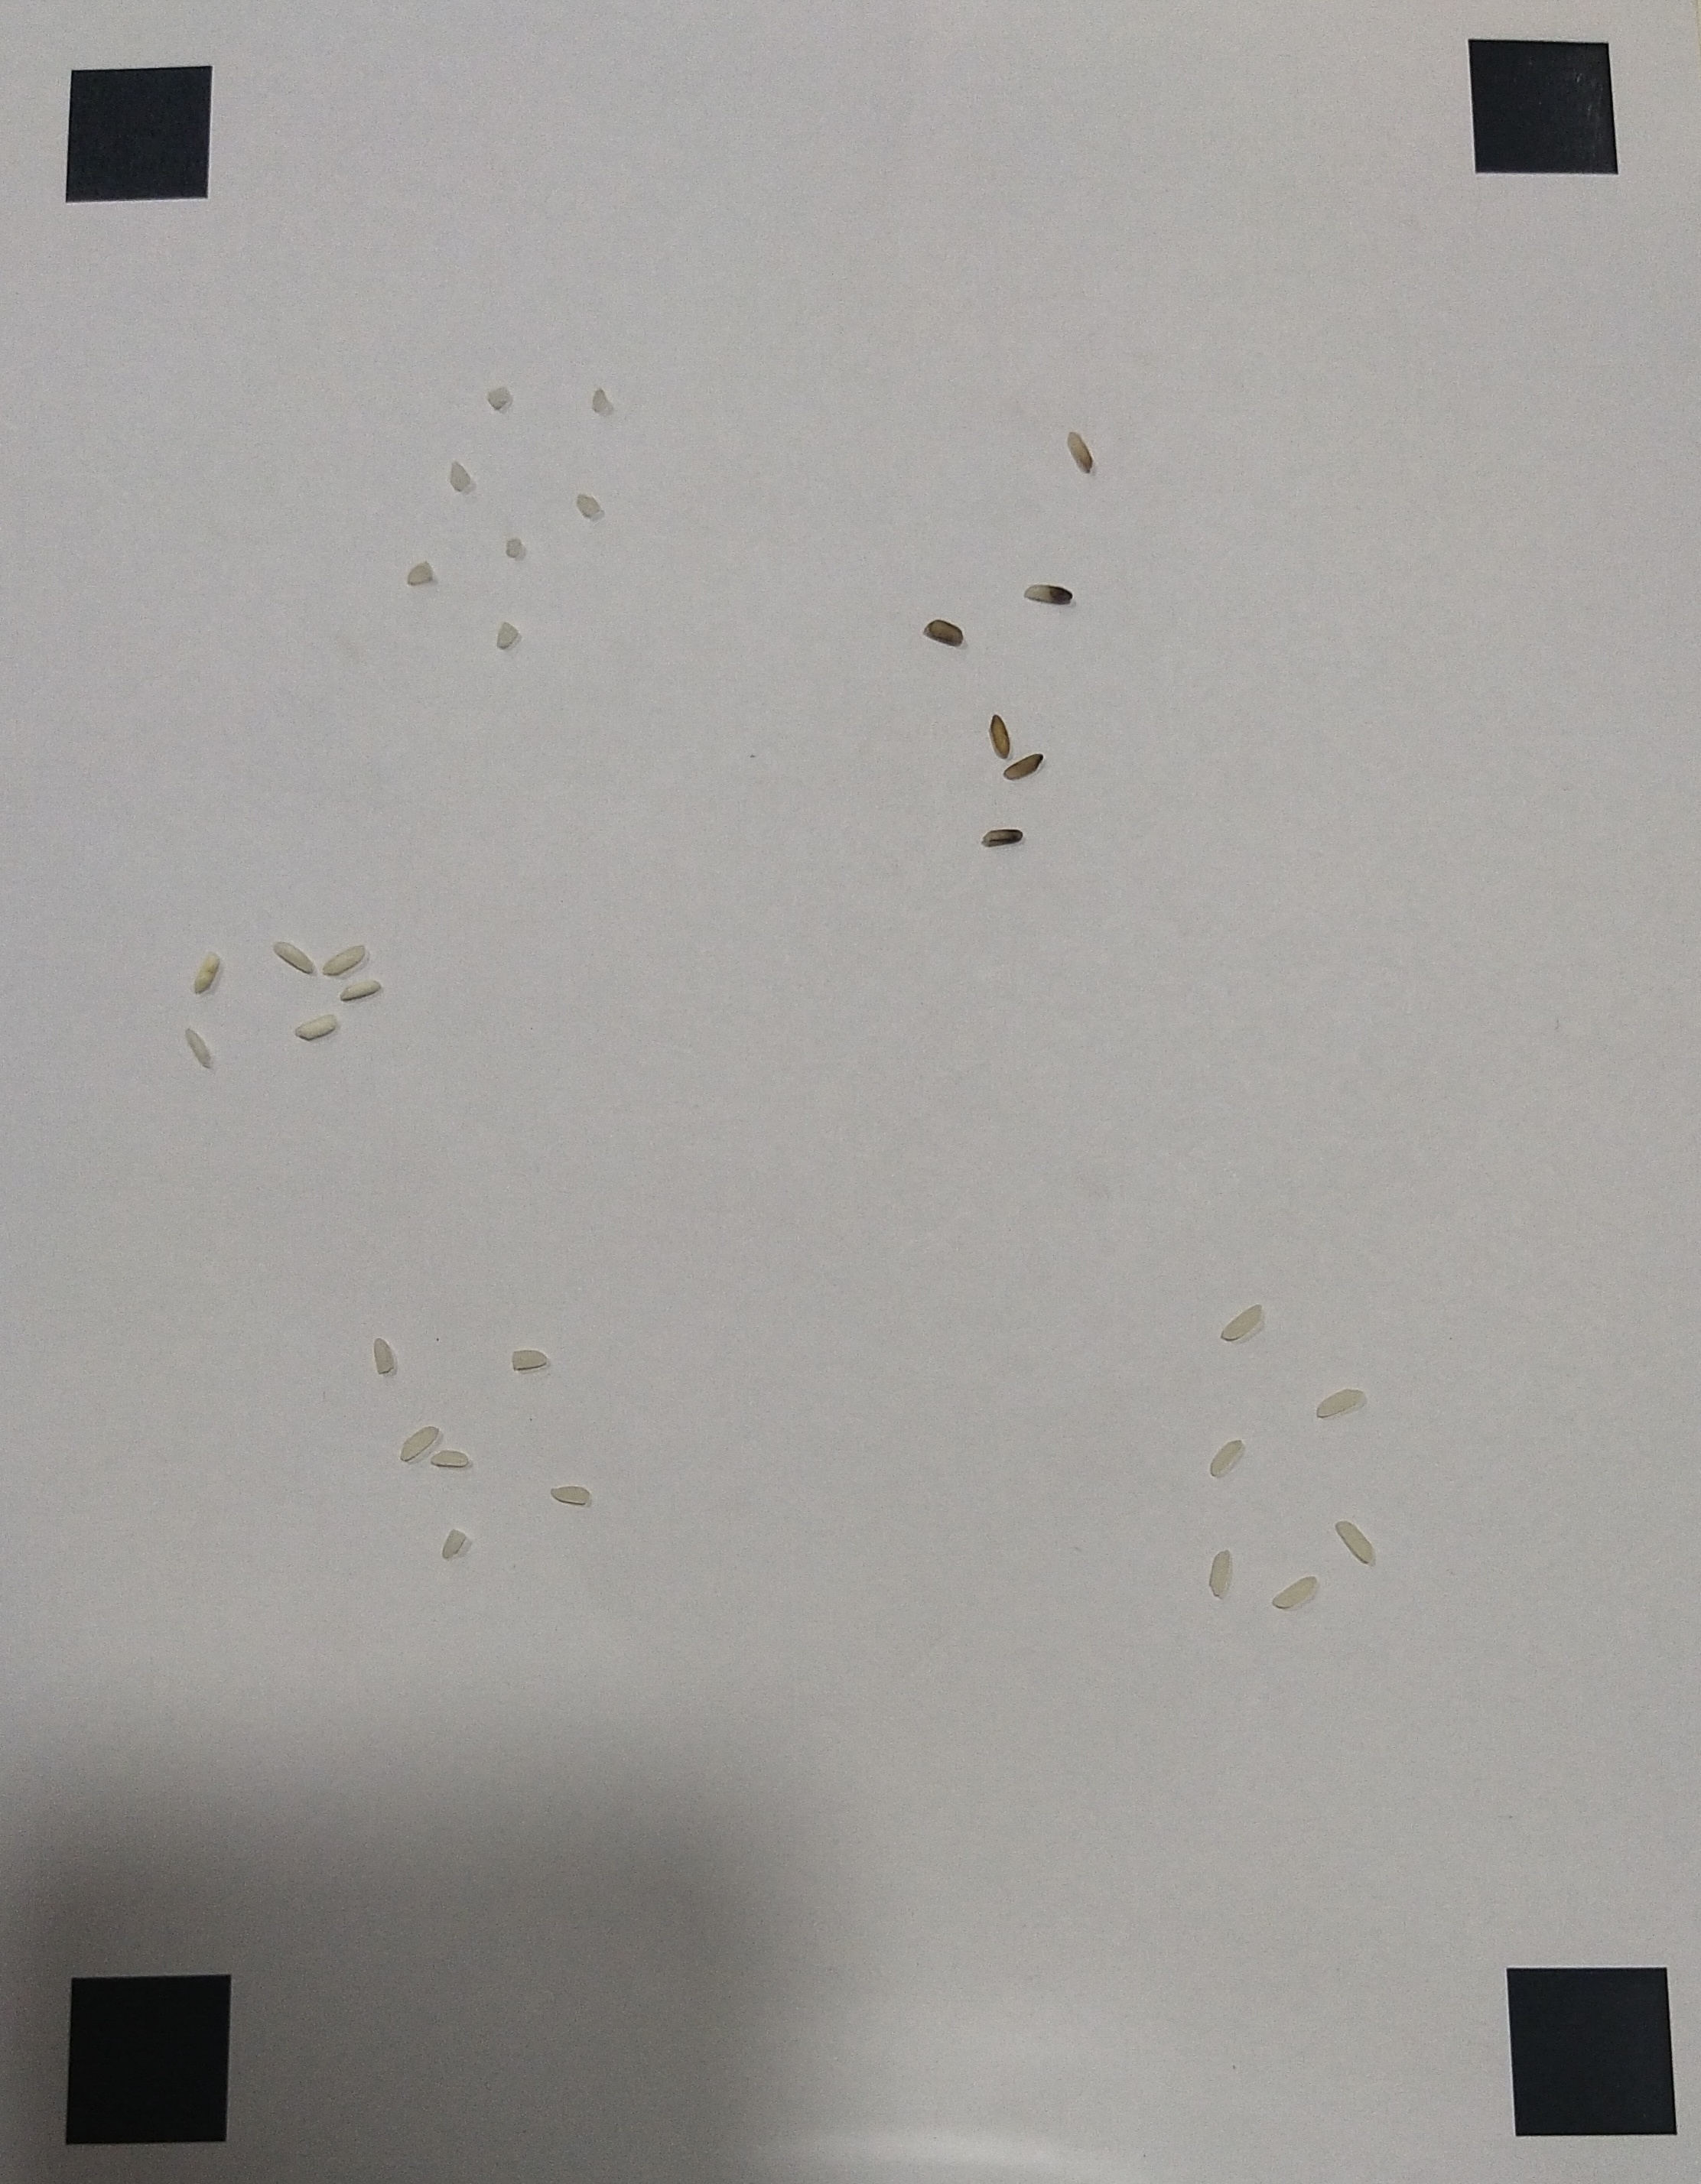broken: (404, 560, 436, 589), (497, 622, 523, 652), (447, 461, 472, 491), (575, 493, 603, 518), (484, 385, 513, 408), (500, 534, 523, 558), (591, 388, 607, 413)
chalky: (323, 940, 367, 975), (271, 941, 314, 973), (188, 952, 222, 989), (184, 1026, 211, 1069), (296, 1014, 335, 1041), (339, 980, 383, 1000)
damage: (401, 1425, 442, 1462), (546, 1482, 592, 1505), (372, 1335, 394, 1381), (431, 1447, 468, 1470), (511, 1347, 550, 1369), (442, 1530, 465, 1560)
discolor: (922, 613, 967, 649), (1066, 429, 1096, 473), (986, 713, 1016, 757), (1002, 752, 1045, 780), (1023, 585, 1073, 606), (983, 830, 1022, 847)
good: (1334, 1517, 1373, 1564), (1268, 1576, 1316, 1610), (1316, 1386, 1362, 1420), (1208, 1438, 1243, 1477), (1222, 1306, 1261, 1337), (1210, 1548, 1229, 1599)
